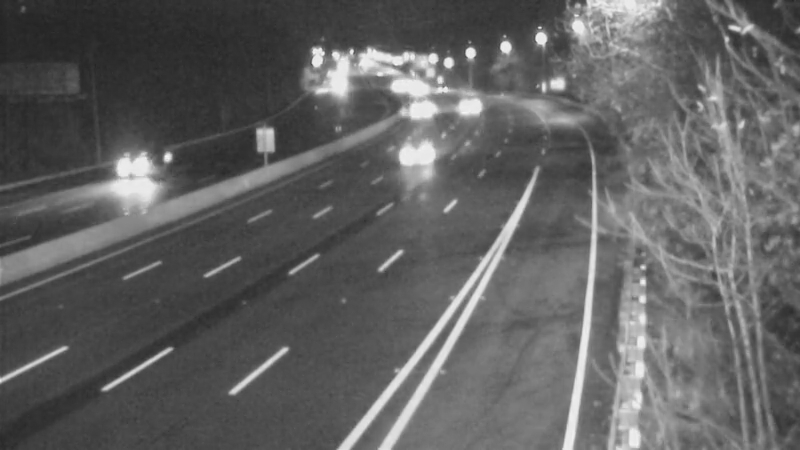vehicle: (374, 123, 454, 203), (93, 132, 173, 212), (414, 63, 464, 113), (440, 81, 490, 131), (397, 83, 447, 133)
